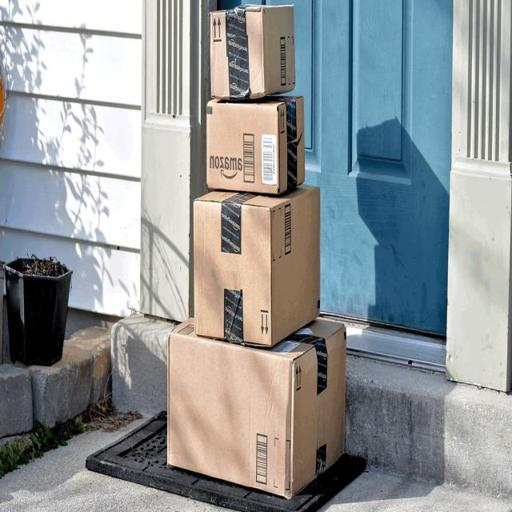Amazon: (162, 323, 362, 485), (189, 192, 328, 341), (208, 100, 295, 199), (209, 5, 295, 97)
